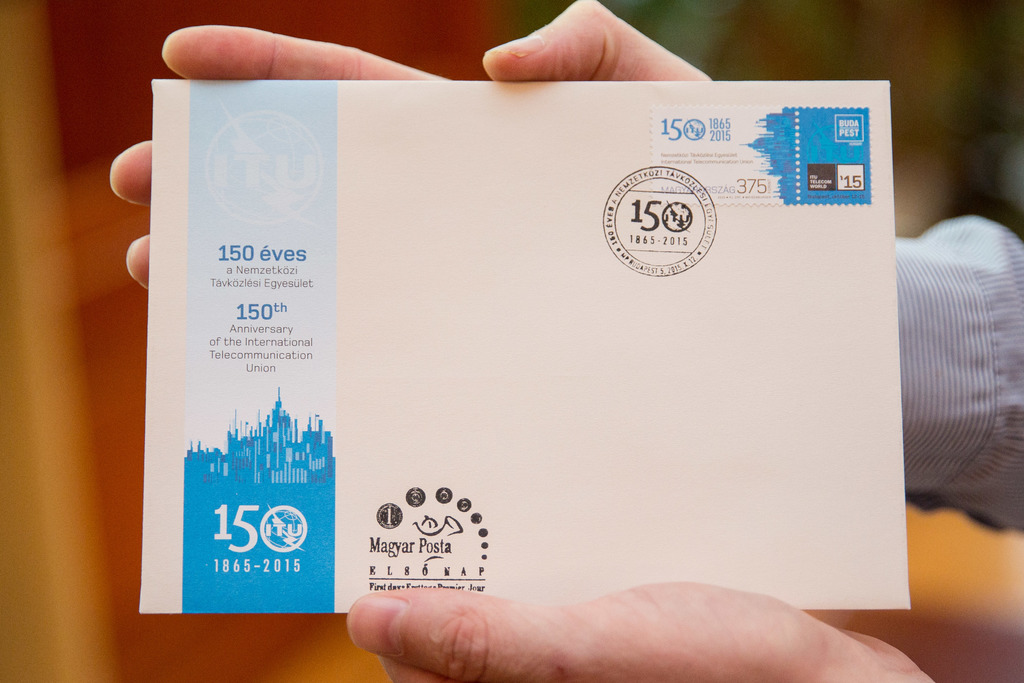Human_hand: (110, 0, 714, 291), (346, 582, 936, 683)
